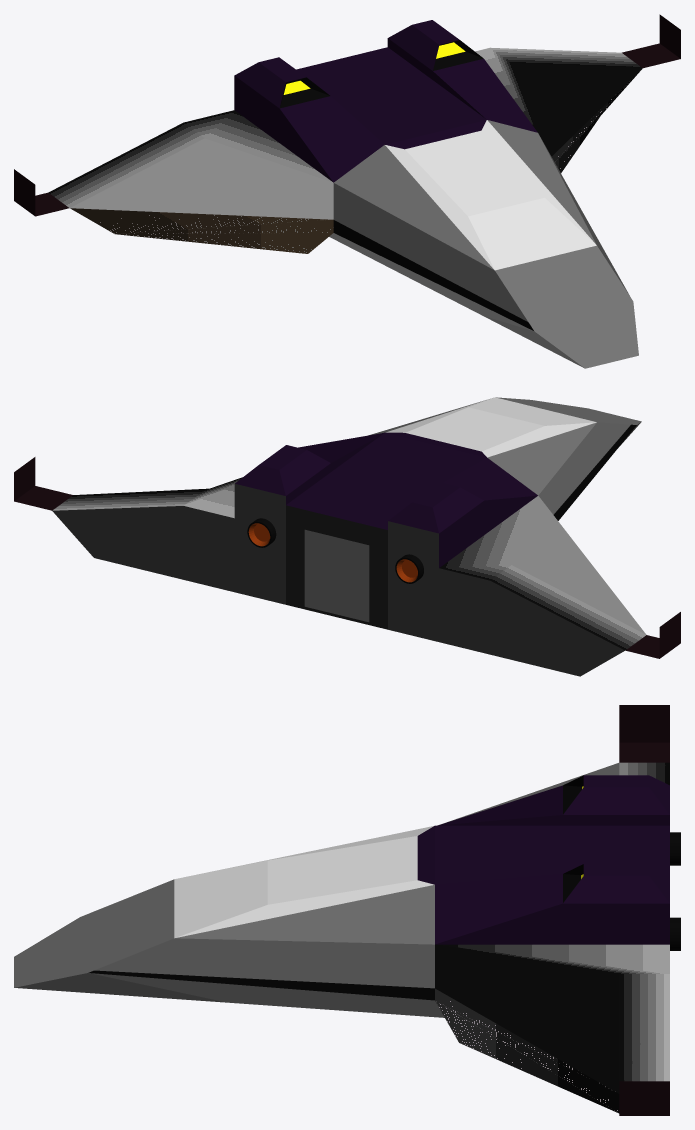
Rendered from spaceship 1.fbx.
3 views of the same model, one above another, from view 1: azimuth 30°, elevation 25°; view 2: azimuth 150°, elevation 25°; view 3: azimuth 270°, elevation 25° (orthographic). The views are drawn at different scales.
Visible parts, largest first — view 1: Plane; view 2: Plane; view 3: Plane.
Part boxes in pixels (left/top/right/bottom): Plane: left=14, top=14, right=680, bottom=368; Plane: left=14, top=397, right=680, bottom=676; Plane: left=14, top=705, right=680, bottom=1115.
Size of the model in its own units: 801 by 148 by 605.
